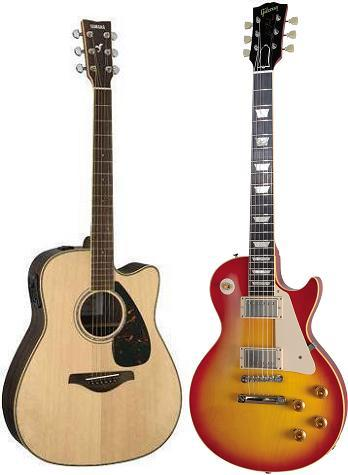guitar: (6, 18, 183, 469)
